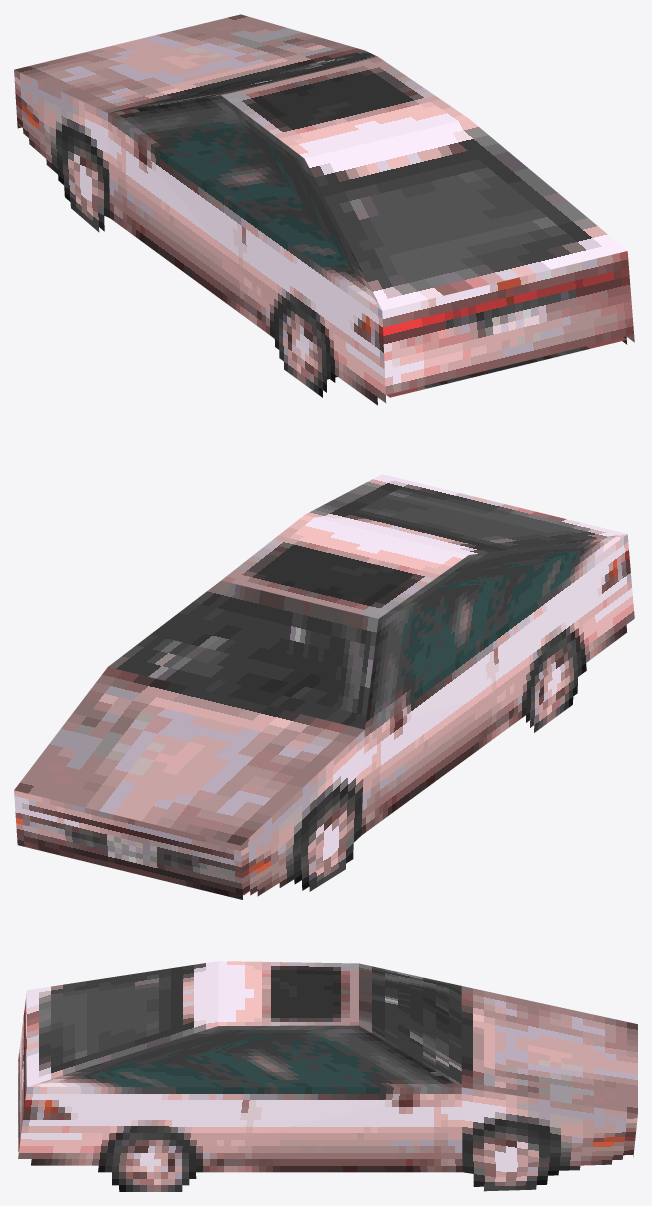
The model's file is car-probe-plt2.glb.
3 views of the same model, one above another, from view 1: azimuth 30°, elevation 25°; view 2: azimuth 150°, elevation 25°; view 3: azimuth 270°, elevation 25° (orthographic). The views are drawn at different scales.
Parts seen in each view (by area): view 1: car-probe-plt2; view 2: car-probe-plt2; view 3: car-probe-plt2.
Part boxes in pixels (x1,y1,x2,y2): car-probe-plt2: [14, 14, 634, 405]; car-probe-plt2: [14, 474, 634, 899]; car-probe-plt2: [18, 961, 637, 1191].
Size of the model in its own units: 1.73 by 1.19 by 4.51.
Materials: 13 (13 with a texture image).
